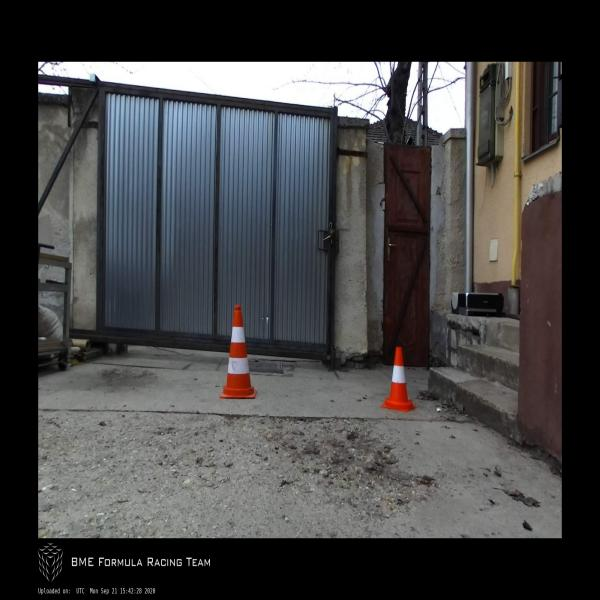large_orange_cone: (220, 305, 256, 399)
orange_cone: (381, 347, 416, 411)
